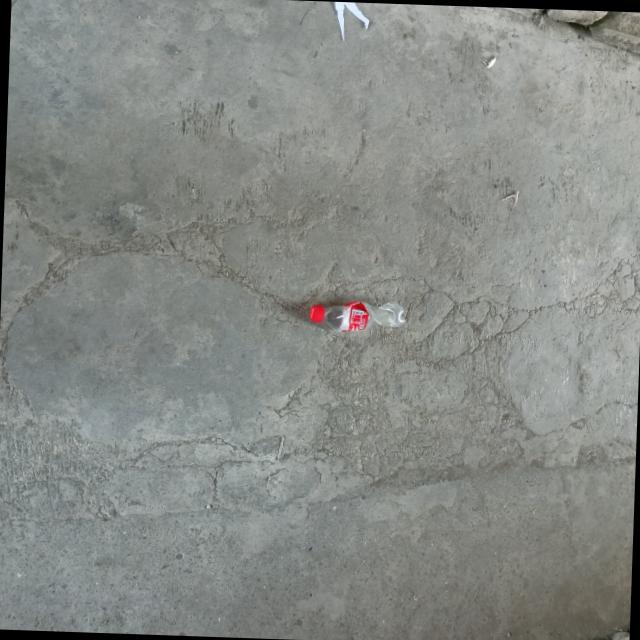Bottle: (308, 299, 405, 331)
